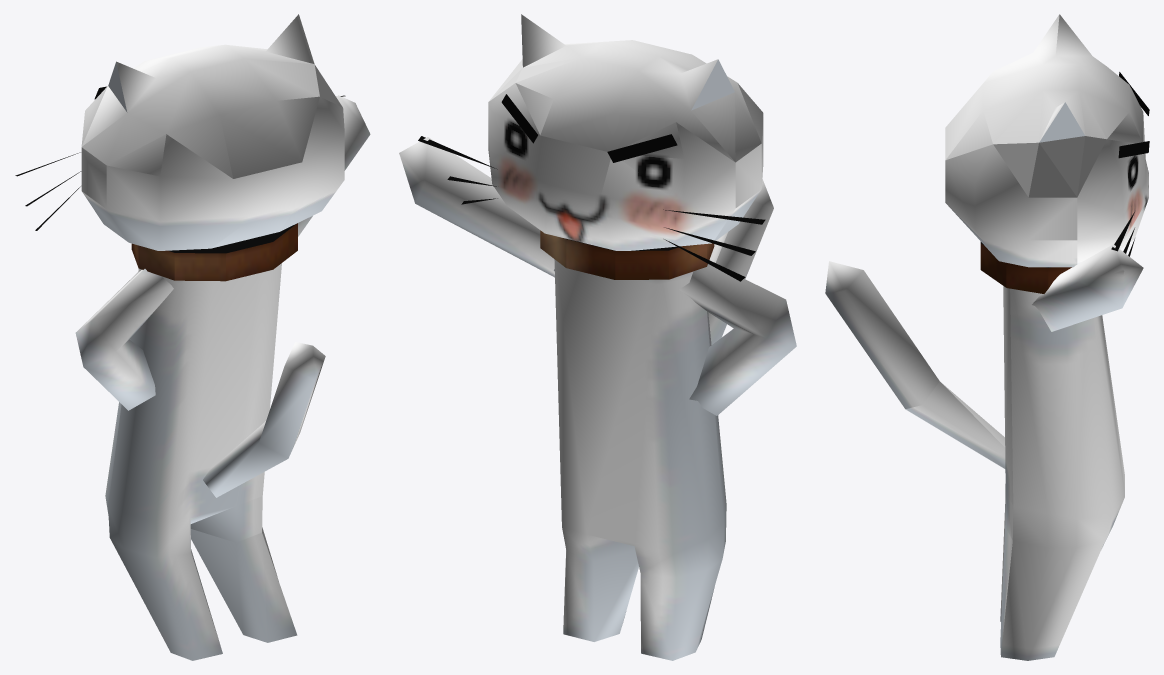
Rendered from static.ico.obj.
The picture shows the model from 3 angles, left to right: view 1: azimuth 30°, elevation 25°; view 2: azimuth 150°, elevation 25°; view 3: azimuth 270°, elevation 25°; orthographic projection. The views are drawn at different scales.
Size of the model in its own units: 2.94 by 4.8 by 2.47.
Materials: 1 (1 with a texture image).
